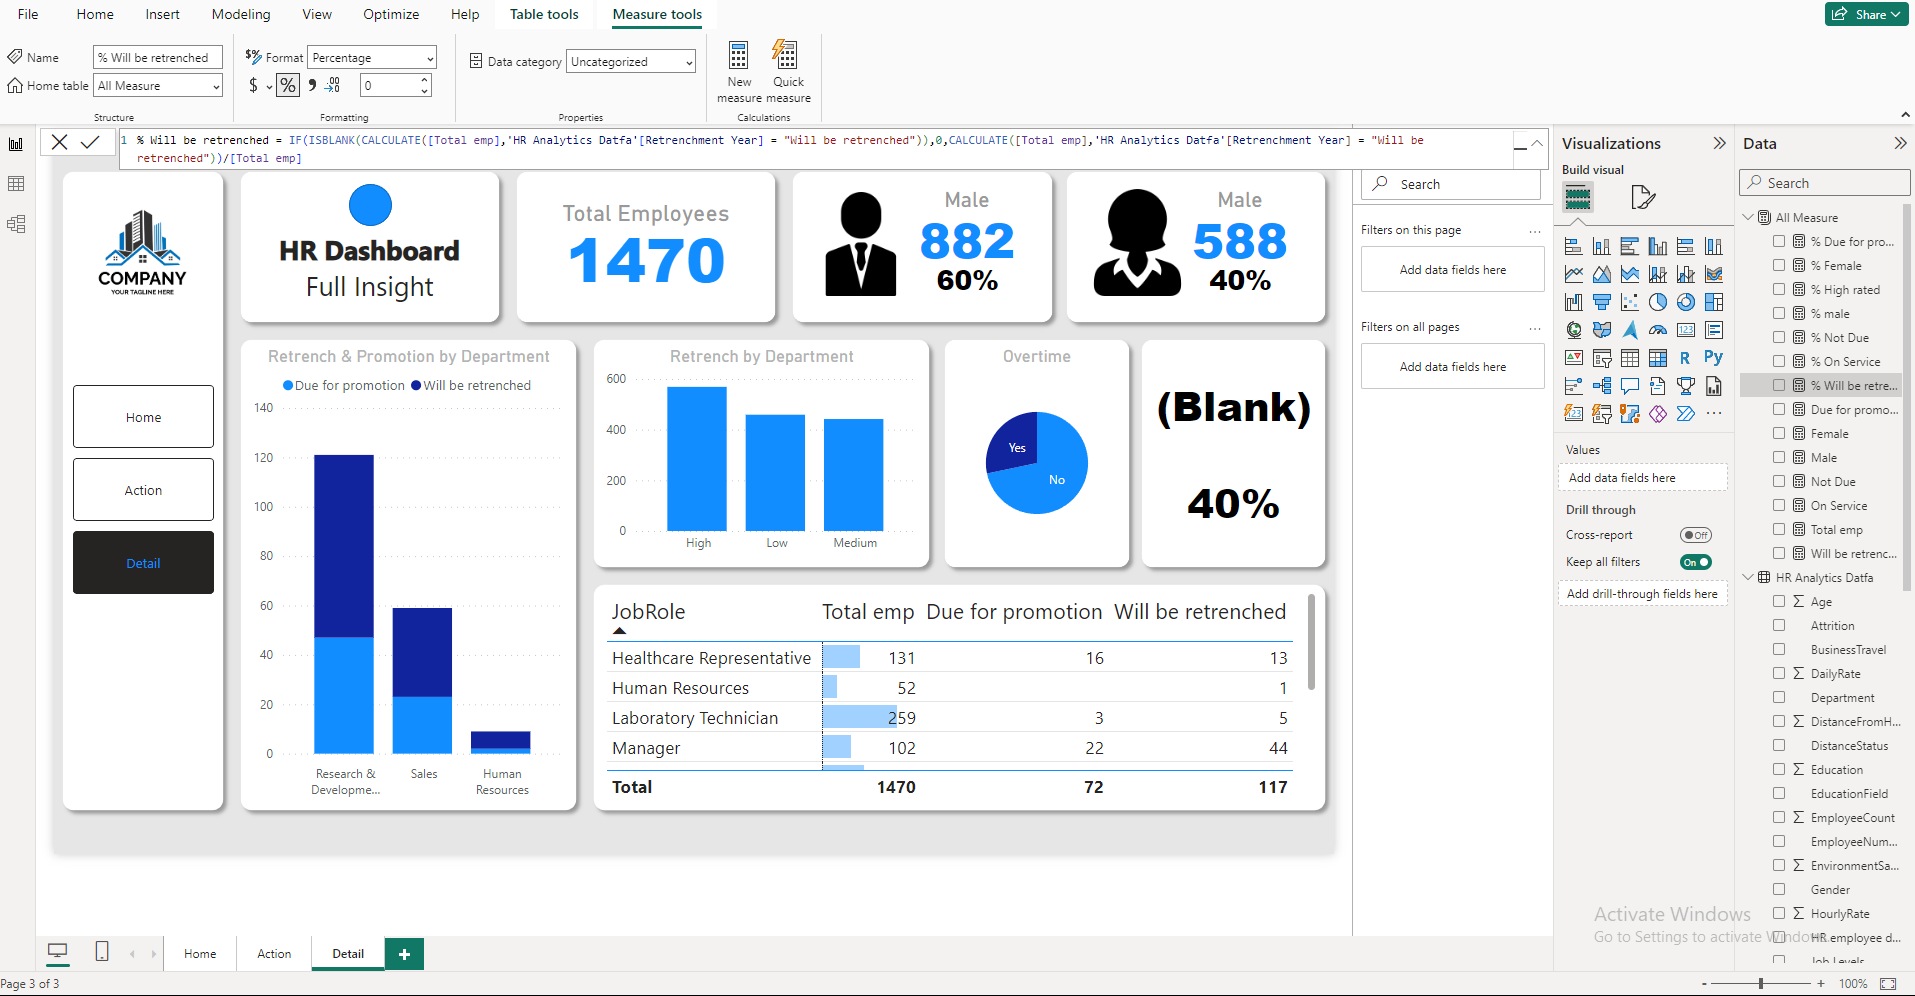

This screenshot's page, from the dashboard's own definition file:
{"tool":"powerbi","page":{"name":"Detail","canvas":[1280,720],"ordinal":2},"visuals":[{"type":"shape","box":[0,29.2,178,655.6],"z":0},{"type":"shape","box":[178,29.2,276.2,168.3],"z":1000},{"type":"shape","box":[454.2,29.2,276.2,168.3],"z":2000},{"type":"shape","box":[730.5,29.2,276.2,168.3],"z":3000},{"type":"textbox","box":[210.1,92.4,211.1,85.6],"z":4000},{"type":"shape","box":[294.7,49.6,42.8,42.8],"z":5000},{"type":"card","title":"Total Employees","fields":{"Values":["All Measure.Total emp"]},"box":[463,66.1,257.8,90.5],"z":6000},{"type":"card","title":"Male","fields":{"Values":["All Measure.Male"]},"box":[852,53.5,121.6,81.7],"z":7000},{"type":"card","fields":{"Values":["All Measure.% male"]},"box":[864.7,126.4,97.3,40.9],"z":8000},{"type":"image","box":[745,53.5,123.5,113.8],"z":9000},{"type":"shape","box":[1003.8,29.2,276.2,168.3],"z":10000},{"type":"card","title":"Male","fields":{"Values":["All Measure.Female"]},"box":[1125.3,53.5,121.6,81.7],"z":11000},{"type":"card","fields":{"Values":["All Measure.% Female"]},"box":[1138,126.4,97.3,40.9],"z":12000},{"type":"image","box":[1025.2,49.6,116.7,117.7],"z":13000},{"type":"shape","box":[178,197.4,353.1,487.3],"z":14000},{"type":"shape","box":[531.1,197.4,353.1,244.1],"z":15000},{"type":"shape","box":[531.1,441.6,748.9,243.2],"z":16000},{"type":"shape","box":[882.2,197.4,201.3,244.1],"z":17000},{"type":"shape","box":[1078.7,197.4,201.3,244.1],"z":18000},{"type":"columnChart","title":"Retrench & Promotion by Department","fields":{"Category":["HR Analytics Data.Department"],"Y":["All Measure.Due for promotion","All Measure.Will be retrenched"]},"box":[193.6,212,321.9,459.1],"z":19000},{"type":"columnChart","title":"Retrench by Department","fields":{"Category":["HR Analytics Data.SatisfacionStatus"],"Y":["All Measure.Total emp"]},"box":[546.6,212,321.9,214.9],"z":20000},{"type":"pieChart","title":"Overtime","fields":{"Y":["All Measure.Total emp"],"Series":["HR Analytics Data.OverTime"]},"box":[893.9,212,178,214.9],"z":21000},{"type":"tableEx","fields":{"Values":["HR Analytics Data.JobRole","All Measure.Total emp","All Measure.Due for promotion","All Measure.Will be retrenched"]},"box":[546.6,454.2,720.7,216.9],"z":22000},{"type":"card","fields":{"Values":["All Measure.% High rated"]},"box":[1093.2,221.8,174.1,97.3],"z":23000},{"type":"card","fields":{"Values":["All Measure.% Female"]},"box":[1093.2,319,174.1,97.3],"z":24000},{"type":"pageNavigator","box":[19.4,250.9,140.1,211.1],"z":25000},{"type":"image","box":[18.2,53.7,141.9,140.9],"z":26000}]}

Visuals, with their boxes on the page's 1280x720 design canvas (x1, y1, x2, y2). These are canvas units, not pixel positions in the 1915x996 screenshot, which may show the page scaled, cropped or inside an application window:
shape: x1=0 y1=29 x2=178 y2=685
shape: x1=178 y1=29 x2=454 y2=198
shape: x1=454 y1=29 x2=730 y2=198
shape: x1=730 y1=29 x2=1007 y2=198
textbox: x1=210 y1=92 x2=421 y2=178
shape: x1=295 y1=50 x2=338 y2=92
"Total Employees" card: x1=463 y1=66 x2=721 y2=157
"Male" card: x1=852 y1=54 x2=974 y2=135
card - All Measure.% male: x1=865 y1=126 x2=962 y2=167
image: x1=745 y1=54 x2=868 y2=167
shape: x1=1004 y1=29 x2=1280 y2=198
"Male" card: x1=1125 y1=54 x2=1247 y2=135
card - All Measure.% Female: x1=1138 y1=126 x2=1235 y2=167
image: x1=1025 y1=50 x2=1142 y2=167
shape: x1=178 y1=197 x2=531 y2=685
shape: x1=531 y1=197 x2=884 y2=442
shape: x1=531 y1=442 x2=1280 y2=685
shape: x1=882 y1=197 x2=1084 y2=442
shape: x1=1079 y1=197 x2=1280 y2=442
"Retrench & Promotion by Department" columnChart: x1=194 y1=212 x2=516 y2=671
"Retrench by Department" columnChart: x1=547 y1=212 x2=868 y2=427
"Overtime" pieChart: x1=894 y1=212 x2=1072 y2=427
tableEx - HR Analytics Data.JobRole x All Measure.Total emp: x1=547 y1=454 x2=1267 y2=671
card - All Measure.% High rated: x1=1093 y1=222 x2=1267 y2=319
card - All Measure.% Female: x1=1093 y1=319 x2=1267 y2=416
pageNavigator: x1=19 y1=251 x2=160 y2=462
image: x1=18 y1=54 x2=160 y2=195
